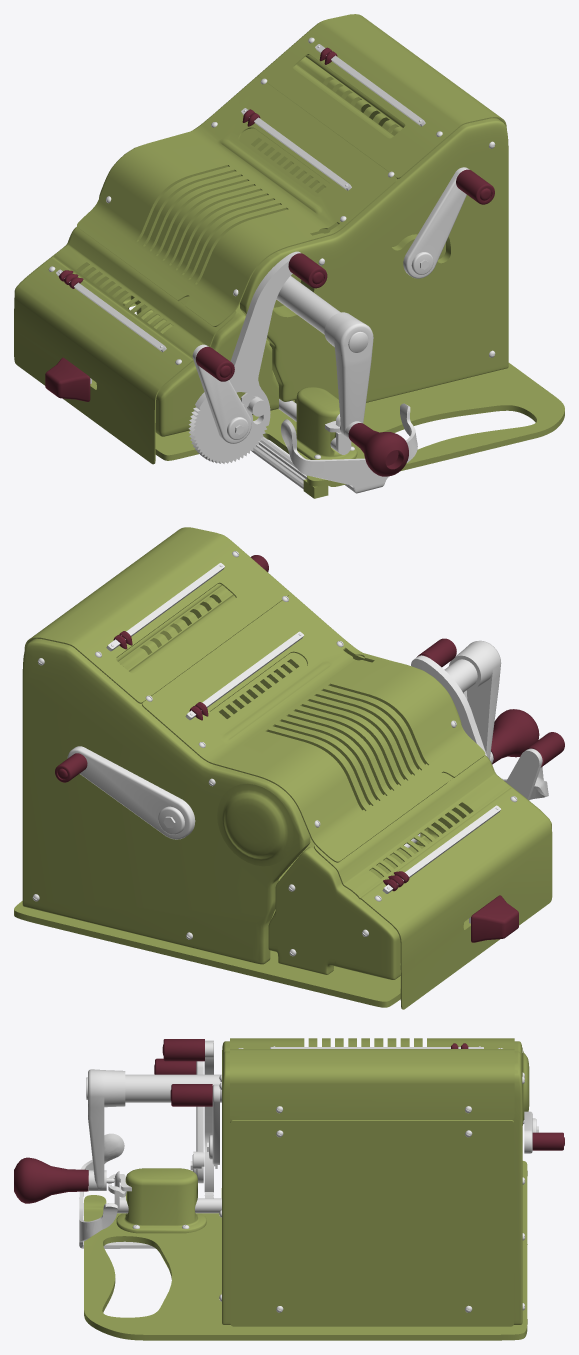
Rendered from brunsviga.glb.
The picture shows the model from 3 angles, top to bottom: view 1: azimuth 30°, elevation 25°; view 2: azimuth 150°, elevation 25°; view 3: azimuth 270°, elevation 25°; orthographic projection. The views are drawn at different scales.
Visible parts, largest first — view 1: Plane, Plane.003, Plane.004, Plane.005, Plane.012, Circle.002, Cylinder.012, Plane.001, Cylinder.004, Plane.002, Cylinder.009, Plane.016 (+11 smaller); view 2: Plane.002, Plane.003, Plane.004, Plane.005, Plane.013, Plane.012, Cylinder.006, Cylinder.015, Plane, Cylinder.012, Plane.019, Circle.002 (+7 smaller); view 3: Plane.009, Plane.005, Plane.012, Circle.001, Cylinder.012, Cylinder.013, Plane.002, Plane, Plane.003, Circle.002, Plane.016, Cylinder.004 (+5 smaller).
Boxes of the visible parts, x1,y1,x2,y2 form: Plane: [240, 118, 508, 403]; Plane.003: [77, 77, 397, 326]; Plane.004: [14, 227, 236, 464]; Plane.005: [259, 14, 506, 178]; Plane.012: [90, 304, 564, 486]; Circle.002: [188, 251, 327, 463]; Cylinder.012: [276, 276, 373, 435]; Plane.001: [155, 312, 278, 436]; Cylinder.004: [403, 167, 494, 278]; Plane.002: [99, 22, 367, 318]; Cylinder.009: [192, 344, 251, 443]; Plane.016: [281, 403, 417, 493]; Plane.002: [22, 638, 310, 964]; Plane.003: [142, 595, 485, 862]; Plane.004: [314, 756, 552, 1009]; Plane.005: [24, 527, 289, 703]; Plane.013: [268, 847, 400, 979]; Plane.012: [14, 837, 470, 1007]; Cylinder.006: [55, 746, 195, 839]; Cylinder.015: [217, 783, 293, 866]; Plane: [174, 534, 461, 810]; Cylinder.012: [444, 640, 501, 759]; Plane.019: [116, 583, 235, 673]; Circle.002: [411, 638, 486, 755]; Plane.009: [230, 1120, 513, 1326]; Plane.005: [230, 1049, 514, 1119]; Plane.012: [84, 1161, 527, 1340]; Circle.001: [116, 1168, 206, 1233]; Cylinder.012: [86, 1069, 221, 1189]; Cylinder.013: [14, 1157, 114, 1203]; Plane.002: [512, 1041, 522, 1324]; Plane: [222, 1041, 232, 1324]; Plane.003: [230, 1038, 514, 1048]; Circle.002: [162, 1039, 217, 1198]; Plane.016: [79, 1133, 155, 1248]; Cylinder.004: [170, 1084, 219, 1164].
Size of the model in its own units: 3.68 by 2.44 by 4.4.
